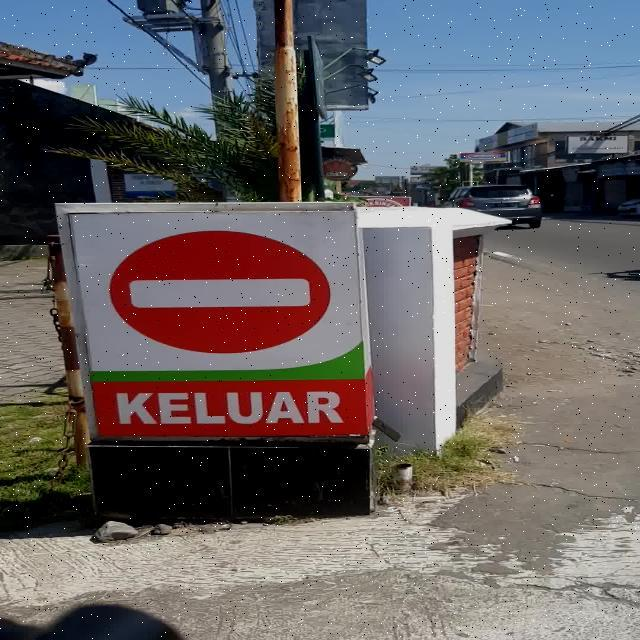Dilarang Masuk: (110, 230, 332, 354)
